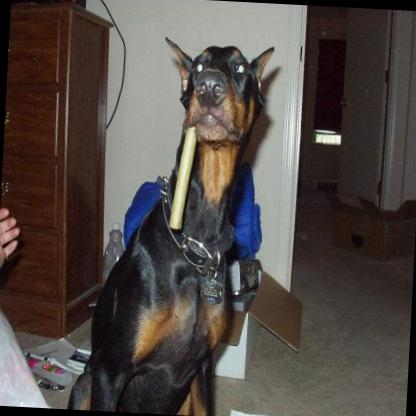Doberman: (65, 31, 275, 416)
